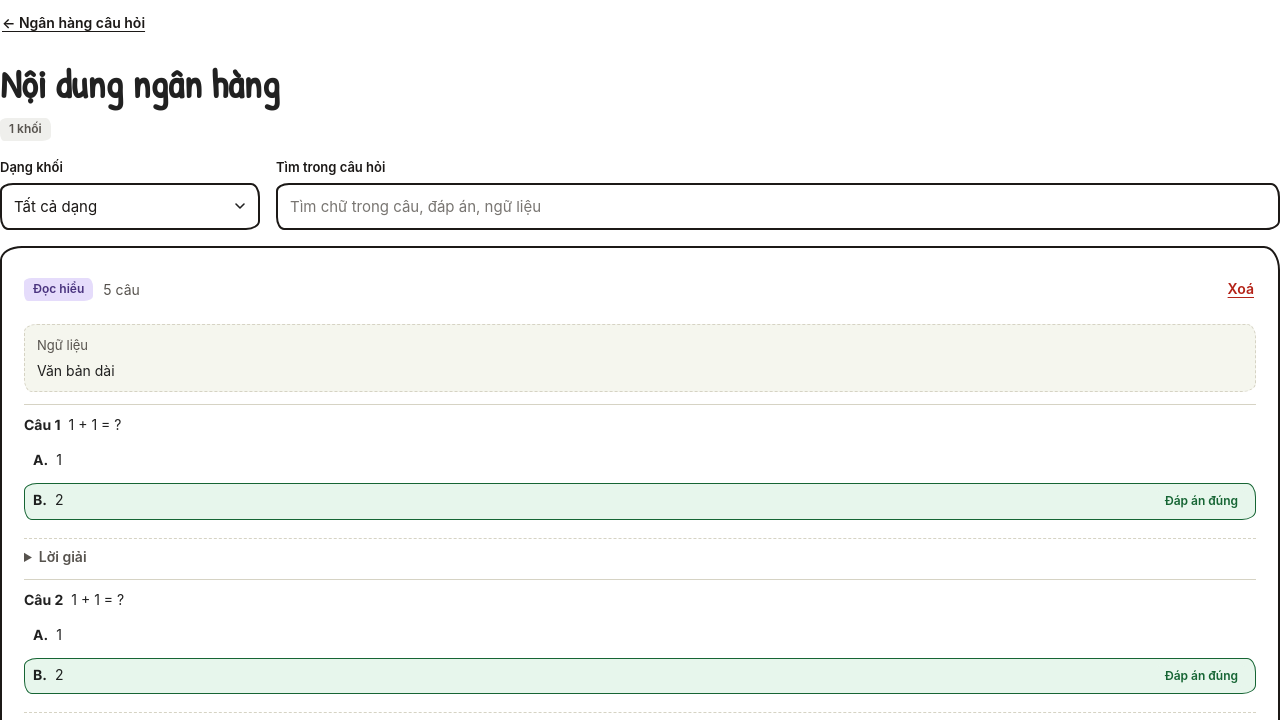
BankBlocks (SPT-73) › delete: asks with the count, posts the id, and a 404 counts as already deleted
The image size is (1280, 720).
Expected: the text "Văn bản dài" is shown, x1=37 y1=362 x2=115 y2=379
Click the button "Xoá" at point(1241, 290), box x1=1226 y1=268 x2=1256 y2=312
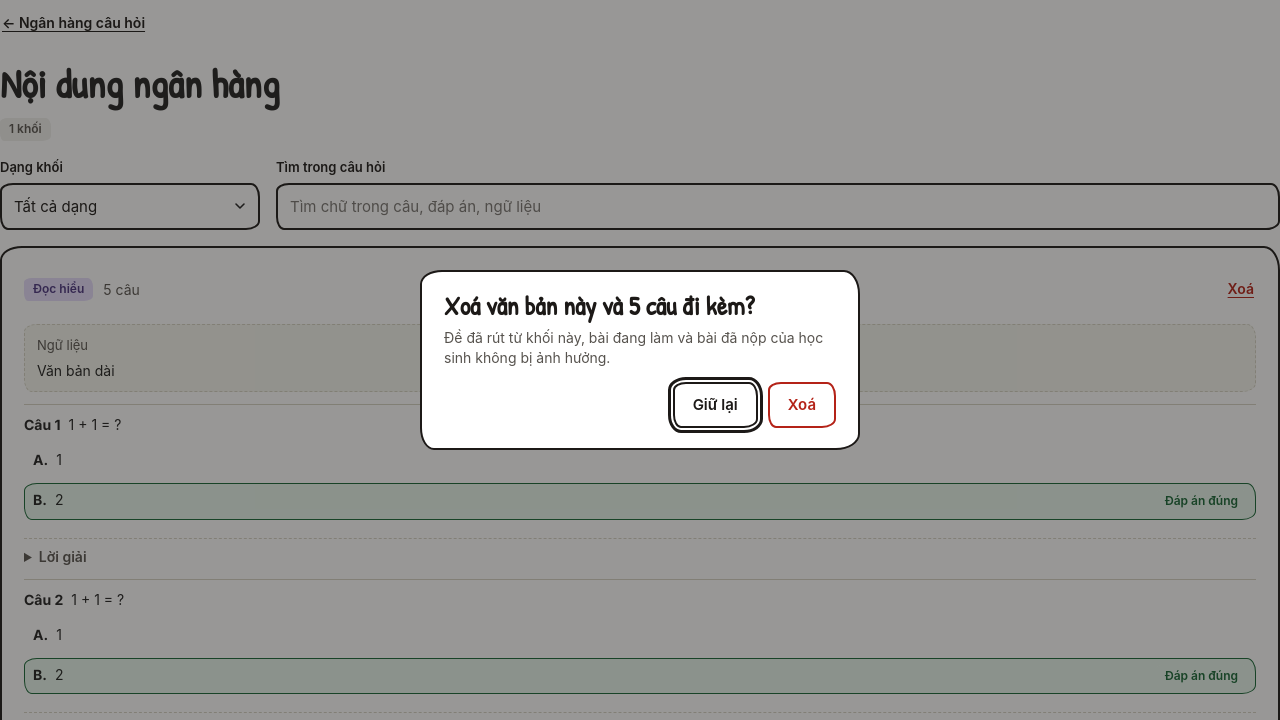
Expected: the heading "Xoá văn bản này và 5 câu đi kèm?" is shown, x1=444 y1=292 x2=754 y2=320
Click the button "Xoá" at point(802, 405), box x1=768 y1=382 x2=836 y2=428
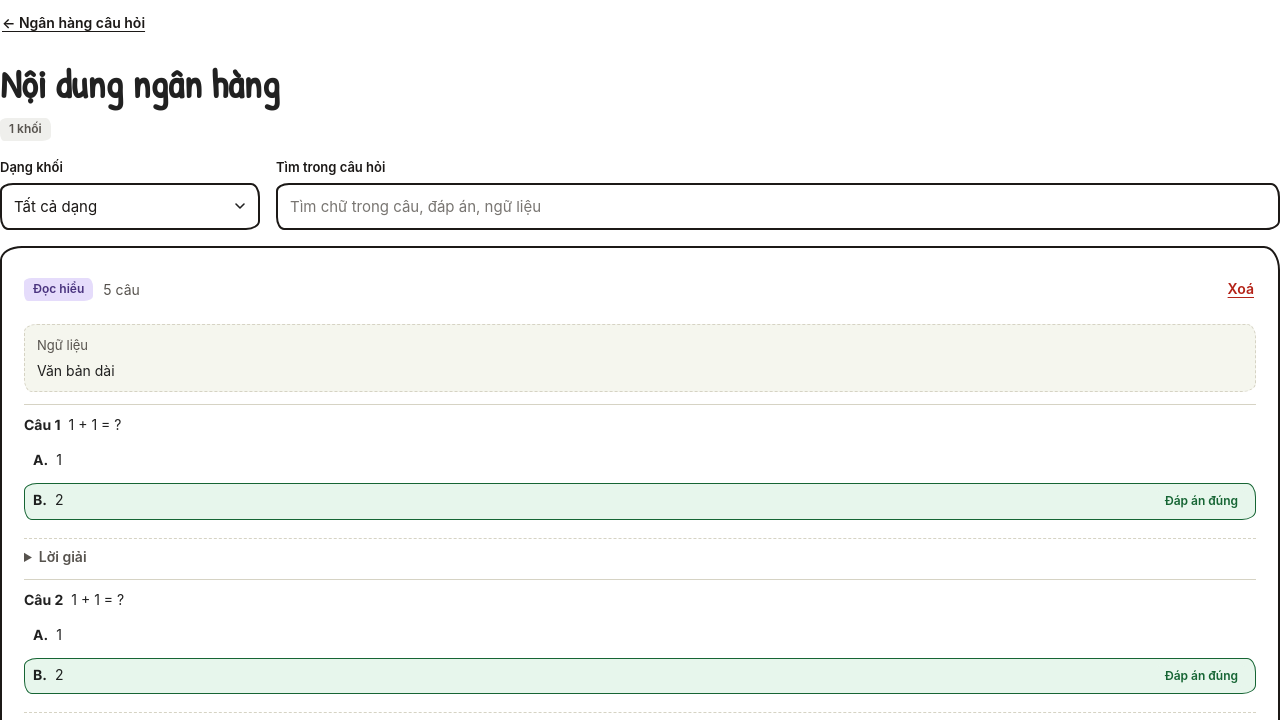
Expected: the heading "Xoá văn bản này và 5 câu đi kèm?" is gone
